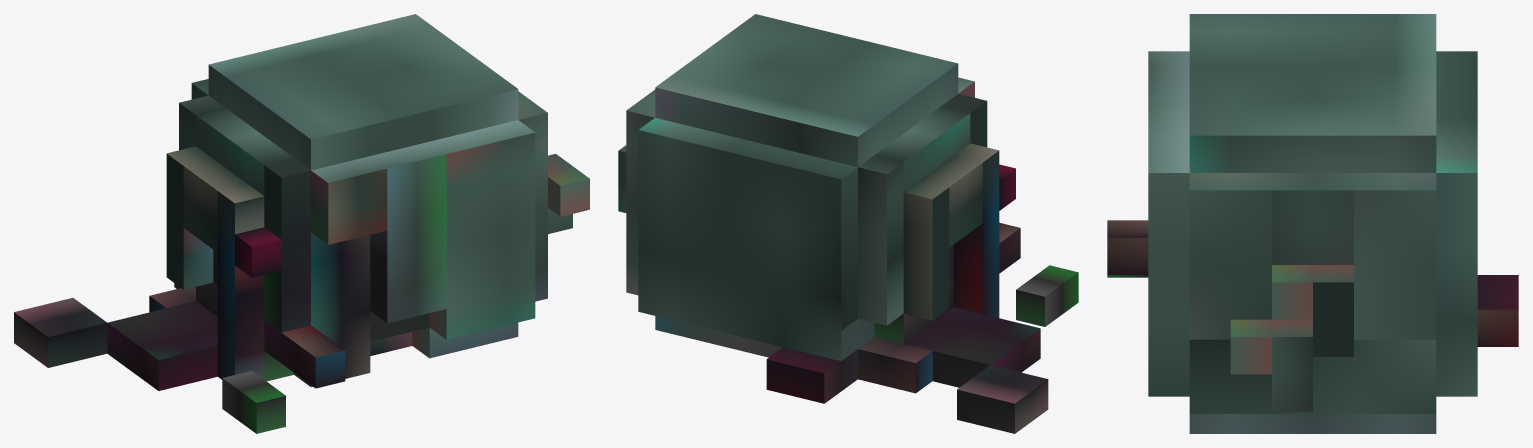
File: Trash_A_00.fbx
3 views of the same model, side by side, from view 1: azimuth 30°, elevation 25°; view 2: azimuth 150°, elevation 25°; view 3: azimuth 270°, elevation 25° (orthographic). The views are drawn at different scales.
Visible parts, largest first — view 1: Trash_A_00; view 2: Trash_A_00; view 3: Trash_A_00.
Boxes of the visible parts, x1,y1,x2,y2 form: Trash_A_00: (14,14,589,433); Trash_A_00: (618,14,1078,433); Trash_A_00: (1107,14,1518,433).
Size of the model in its own units: 80 by 40 by 50.
